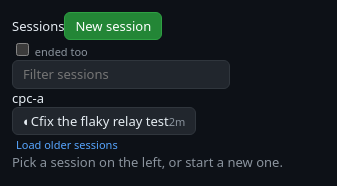
Test: SessionsApp › lists the last days first and loads older sessions page by page
The image size is (337, 186).
What coordinates should you click on to do the following:
click the button with test id "load-older"
I would click on:
 (67, 145)
Its box is [12,137,122,152].
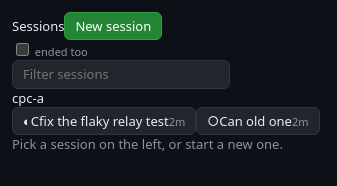
Check: the button with test id "session-cpc-a/claude/old" is shown, box [196,107,320,135]
Check: the button with test id "load-older" is gone
